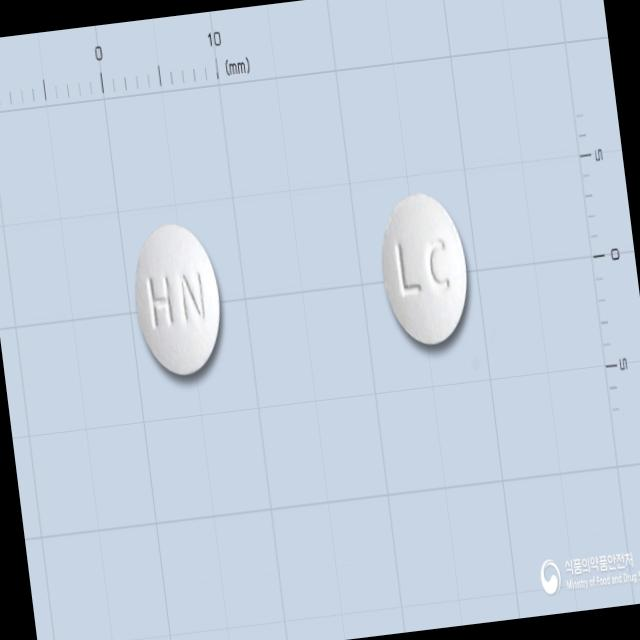Lenacin: (373, 186, 477, 349), (126, 217, 229, 380)
